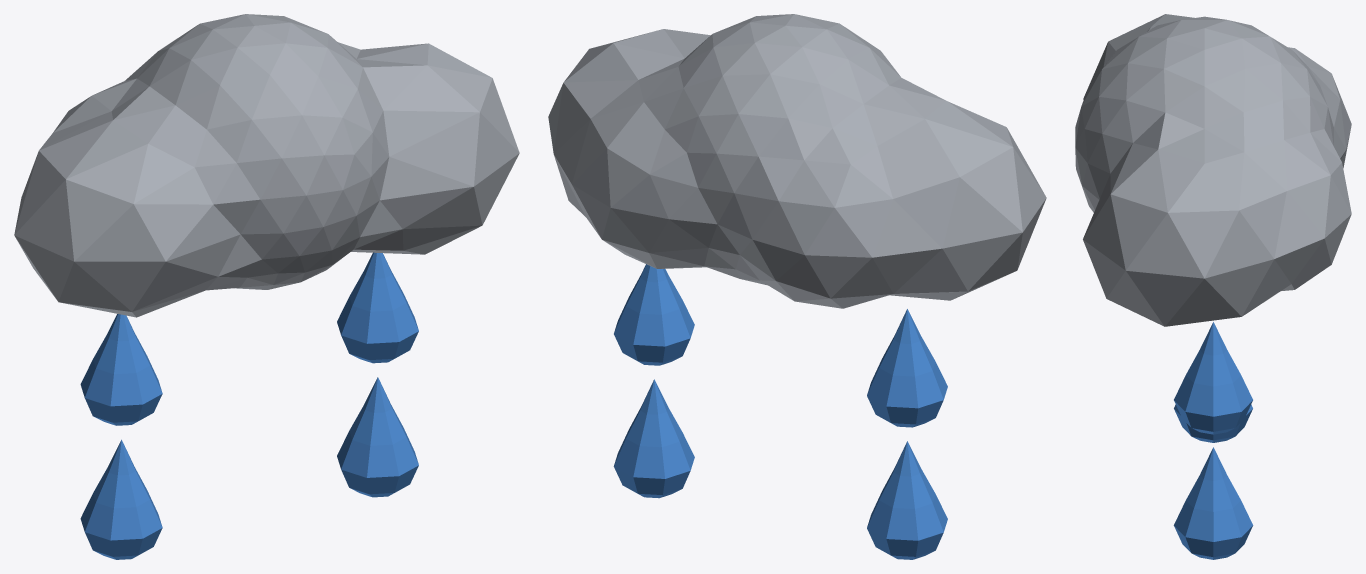
File: KANJI_10_AME.fbx
3 renders of one model, left to right at view 1: azimuth 30°, elevation 25°; view 2: azimuth 150°, elevation 25°; view 3: azimuth 270°, elevation 25°, orthographic. The views are drawn at different scales.
Visible parts, largest first — view 1: SM_KANJI_10_Nube, SM_KANJI_10_Gota_Der_Baja, SM_KANJI_10_Gota_Izq_Baja, SM_KANJI_10_Gota_Izq_Alta, SM_KANJI_10_Gota_Der_Alta; view 2: SM_KANJI_10_Nube, SM_KANJI_10_Gota_Izq_Baja, SM_KANJI_10_Gota_Der_Baja, SM_KANJI_10_Gota_Izq_Alta, SM_KANJI_10_Gota_Der_Alta; view 3: SM_KANJI_10_Nube, SM_KANJI_10_Gota_Der_Baja, SM_KANJI_10_Gota_Der_Alta, SM_KANJI_10_Gota_Izq_Baja.
Boxes of the visible parts, x1,y1,x2,y2 form: SM_KANJI_10_Nube: (14,14,519,317); SM_KANJI_10_Gota_Der_Baja: (337,377,418,497); SM_KANJI_10_Gota_Izq_Baja: (80,439,162,559); SM_KANJI_10_Gota_Izq_Alta: (80,314,162,425); SM_KANJI_10_Gota_Der_Alta: (337,252,418,363); SM_KANJI_10_Nube: (548,14,1046,308); SM_KANJI_10_Gota_Izq_Baja: (867,441,947,559); SM_KANJI_10_Gota_Der_Baja: (613,379,694,498); SM_KANJI_10_Gota_Izq_Alta: (867,309,947,427); SM_KANJI_10_Gota_Der_Alta: (614,264,694,365); SM_KANJI_10_Nube: (1075,14,1351,326); SM_KANJI_10_Gota_Der_Baja: (1173,447,1253,559); SM_KANJI_10_Gota_Der_Alta: (1174,322,1252,434); SM_KANJI_10_Gota_Izq_Baja: (1174,404,1252,442).
Size of the model in its own units: 0.3 by 0.3 by 0.16.
